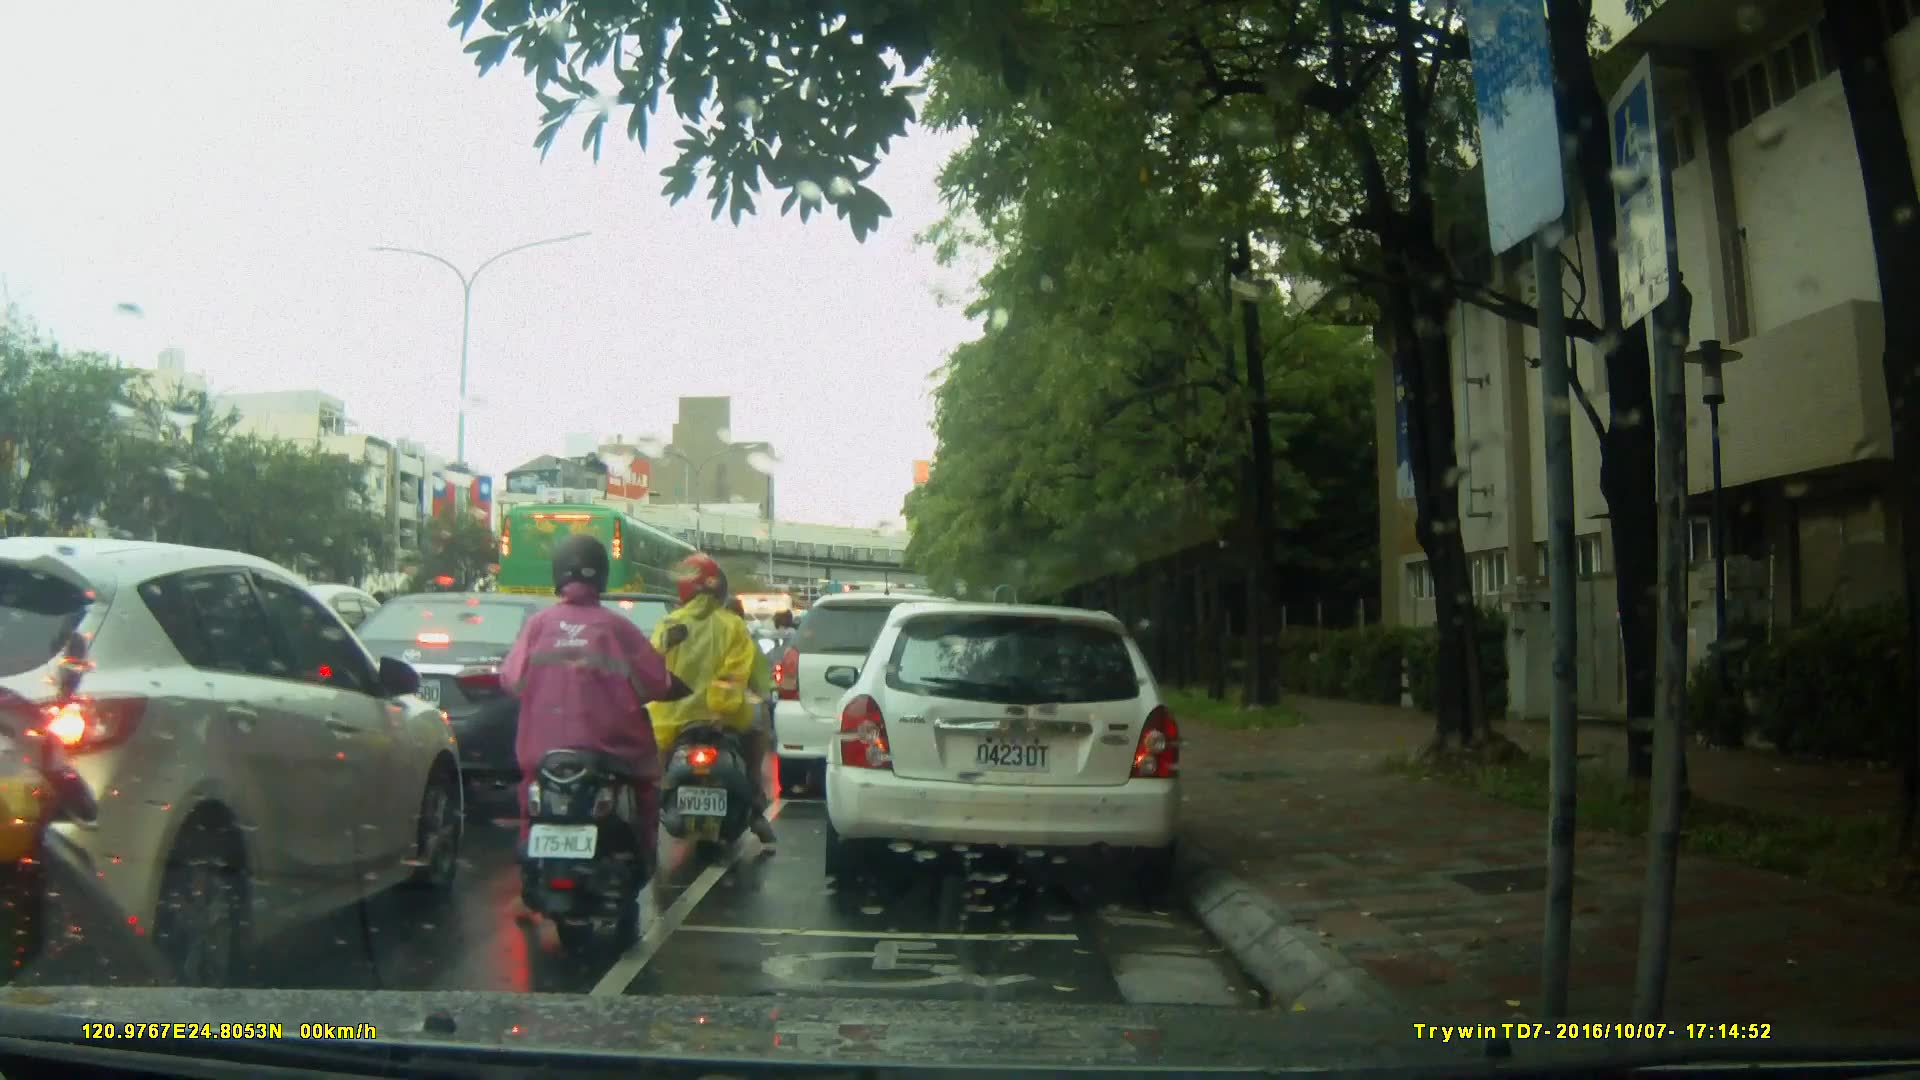rider: (513, 543, 665, 945), (649, 550, 780, 850), (712, 591, 791, 762), (762, 603, 809, 731)
vehicle: (5, 537, 468, 988), (831, 592, 1196, 897), (317, 589, 629, 776), (770, 590, 999, 804), (496, 501, 711, 636)
